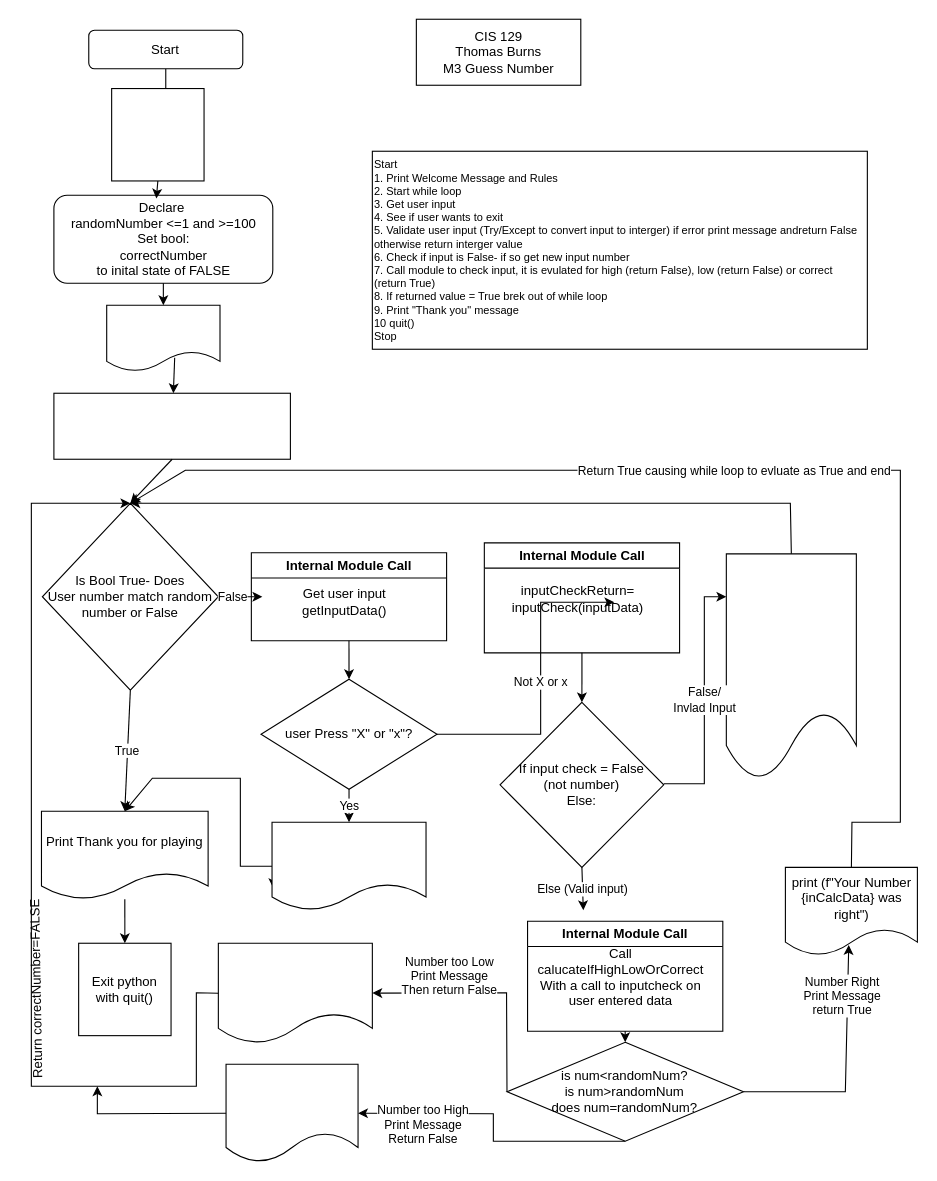
Some shapes in this 937 by 1181 pixel diagram are drawn without their labels. Here are the shapes that lost their labels. From the top down, the centre of each, then its label:
pixel 157 134: Load module for Random number
pixel 163 337: Print Welcome and Tell Exit Key
pixel 171 425: Start While loop Check True/False if number is Correct
pixel 790 666: Except: Print "Error- Please enter a Number or X to eXit"
pixel 348 865: Print "exiting by request"
pixel 294 992: print (f"Your number {inCalcData} was lower than the random number\n")
pixel 291 1112: print (f"Your number {inCalcData} was Greater than the random number\n")
